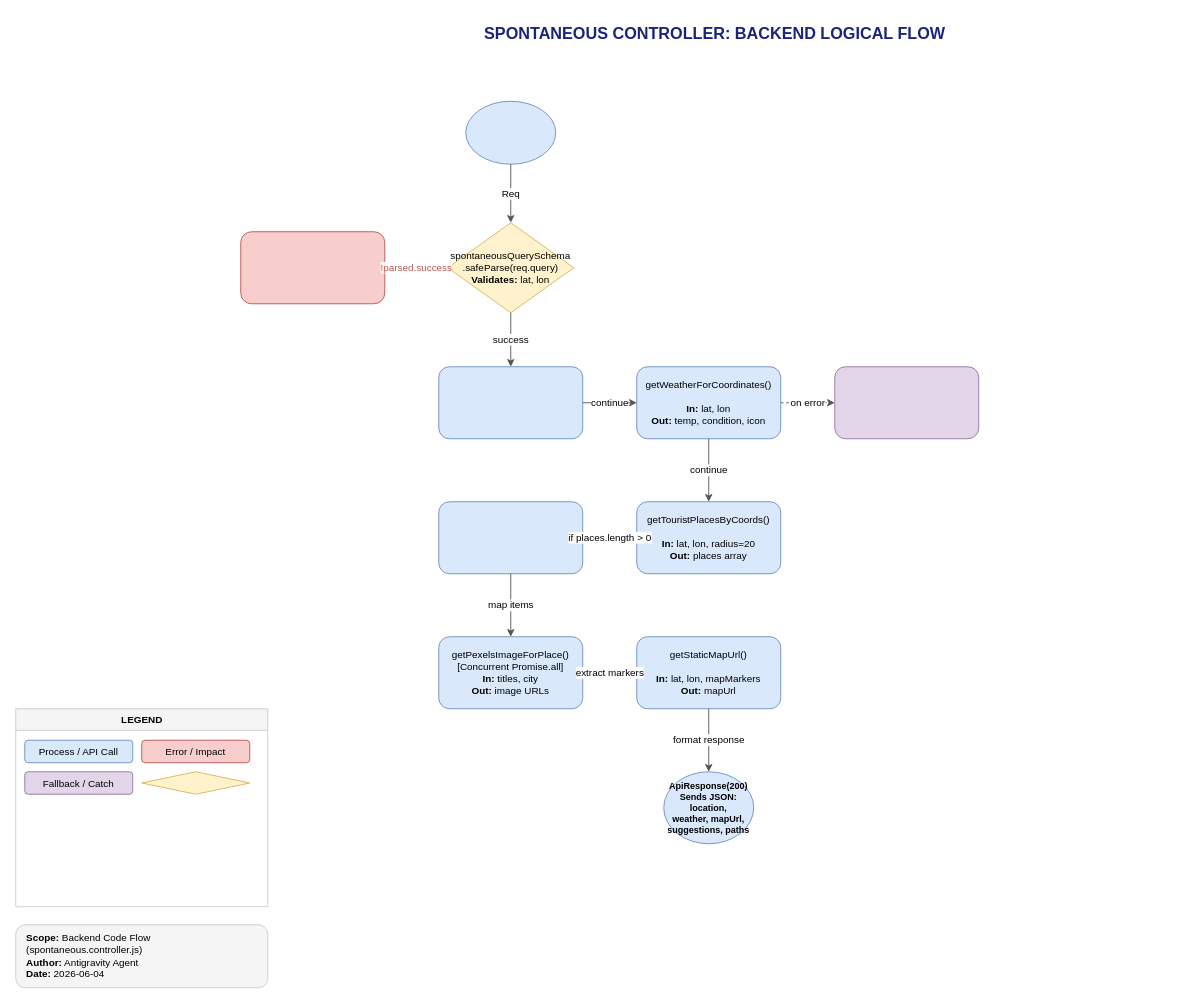
Some shapes in this 1181 by 1004 pixel diagram are drawn without their labels. The centre of each missing label's shape, as x and y in pixels:
generateSpontaneous Itineraries() In: places, city Out: suggestions, paths: the point at 510,537
GET /spontaneous Receives: req.query: the point at 510,132
getCityFromCoordinates() In: lat, lon Out: city, state: the point at 510,402
throw ApiError(400) Sends: Validation Errors: the point at 312,267
try/catch fallback Action: weather = null (Execution Continues): the point at 906,402
Validation / Logic: the point at 195,782
